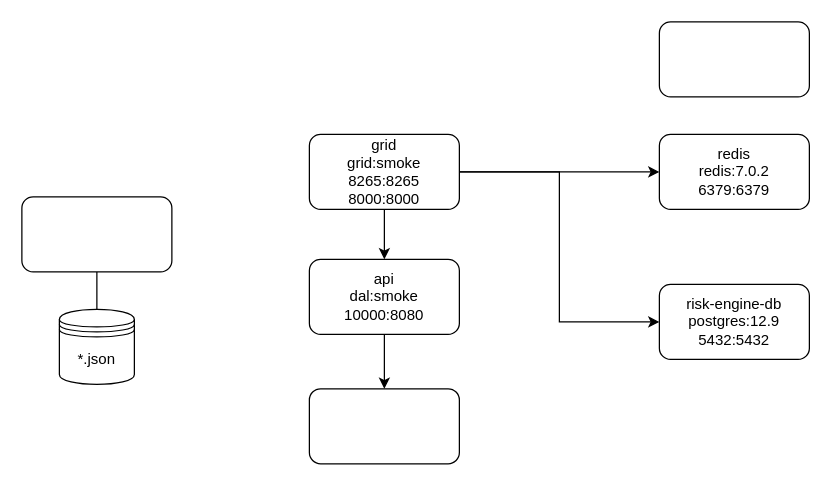
Some shapes in this 831 by 486 pixel diagram are drawn without their labels. The shapes that lost their labels are listed below. From the top down, each one's centre as x and y in pixels, then its label:
pixel 733 59: data data:smoke 33001:33001
pixel 96 234: app app-test:smoke 8080:8080
pixel 383 426: dal dal:smoke 3000:3000
